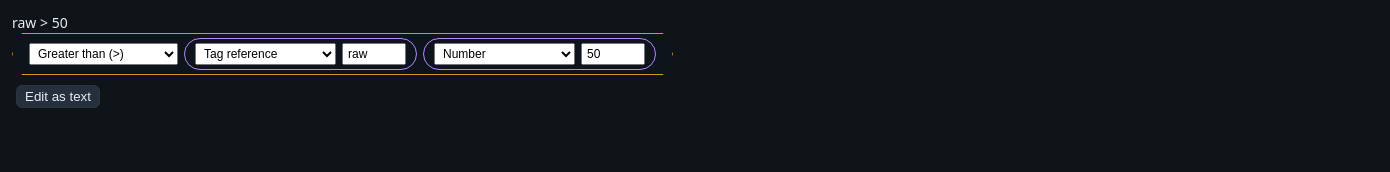
Test: ExprTreeEditor › 'Edit as text' switches a valid tree into raw-text mode without altering the value
Click the button "Edit as text" at x=58, y=96, box [16,85,100,108]
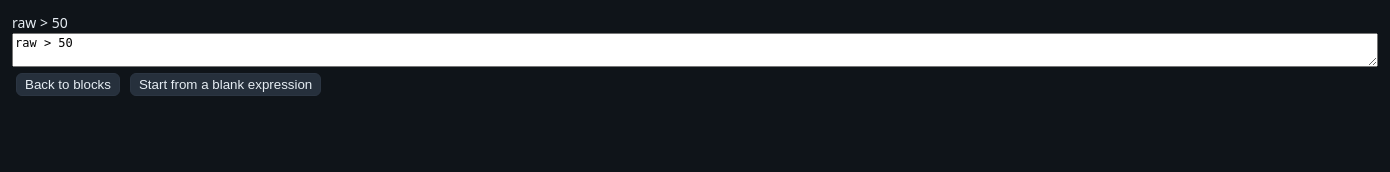
Expected: the text with test id "current-value" reads "raw > 50", [12,13,68,32]
Result: the text box is shown at [12,33,1378,67]
